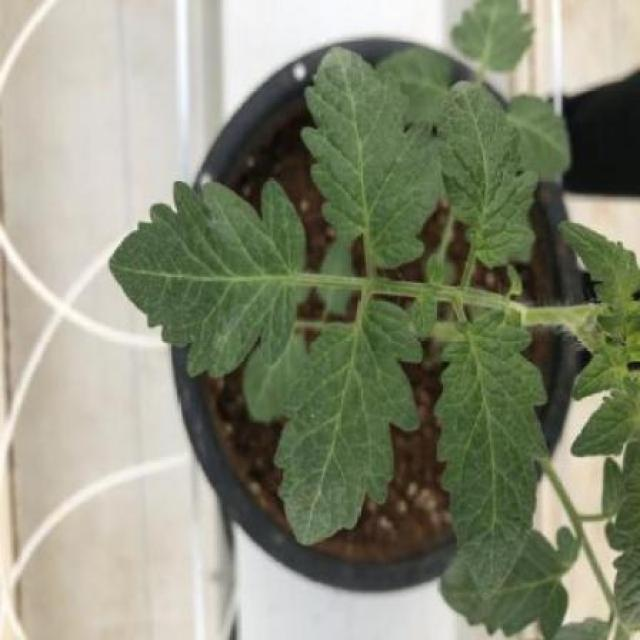Healthy: (108, 181, 306, 378), (275, 302, 422, 544), (433, 310, 548, 600), (300, 47, 439, 269), (436, 80, 538, 269)
